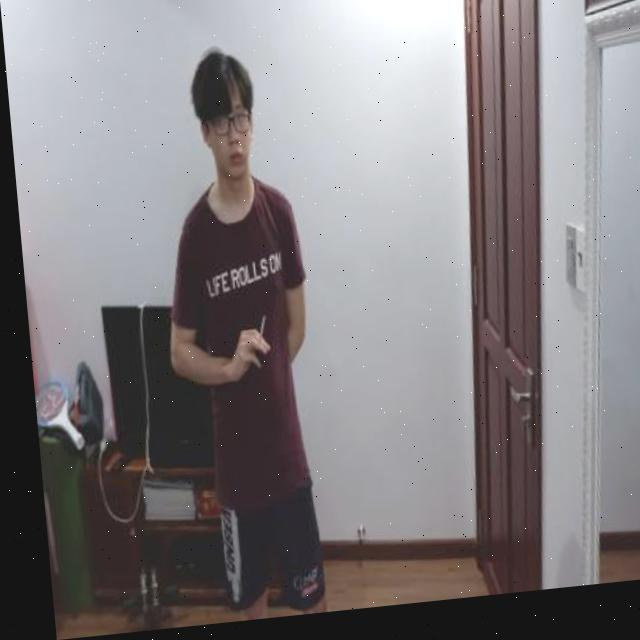cigarette: (249, 319, 263, 352)
